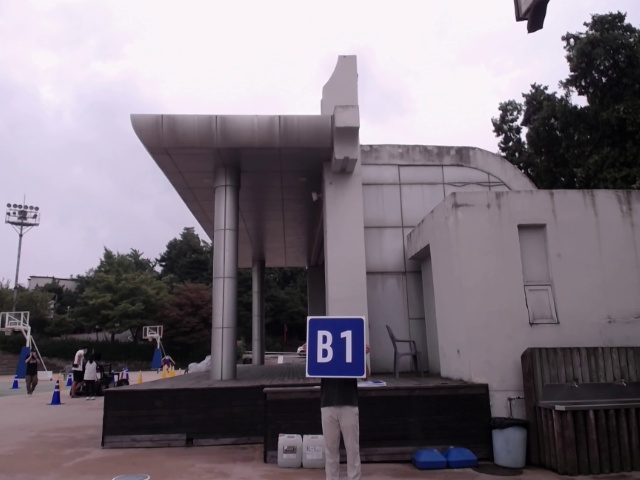delivery_b1: (307, 317, 365, 377)
